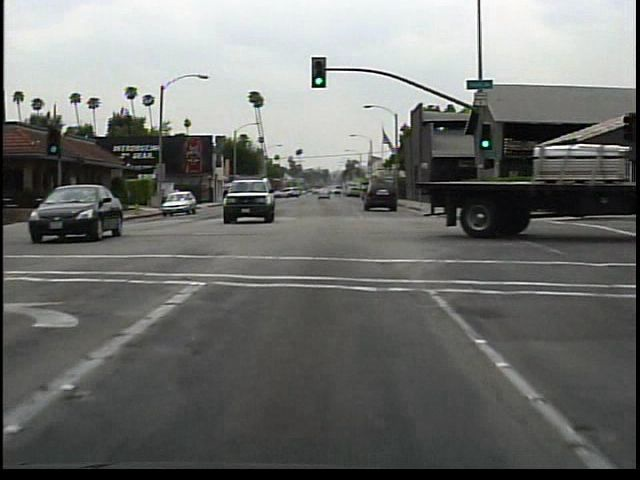person: (170, 182, 186, 206)
